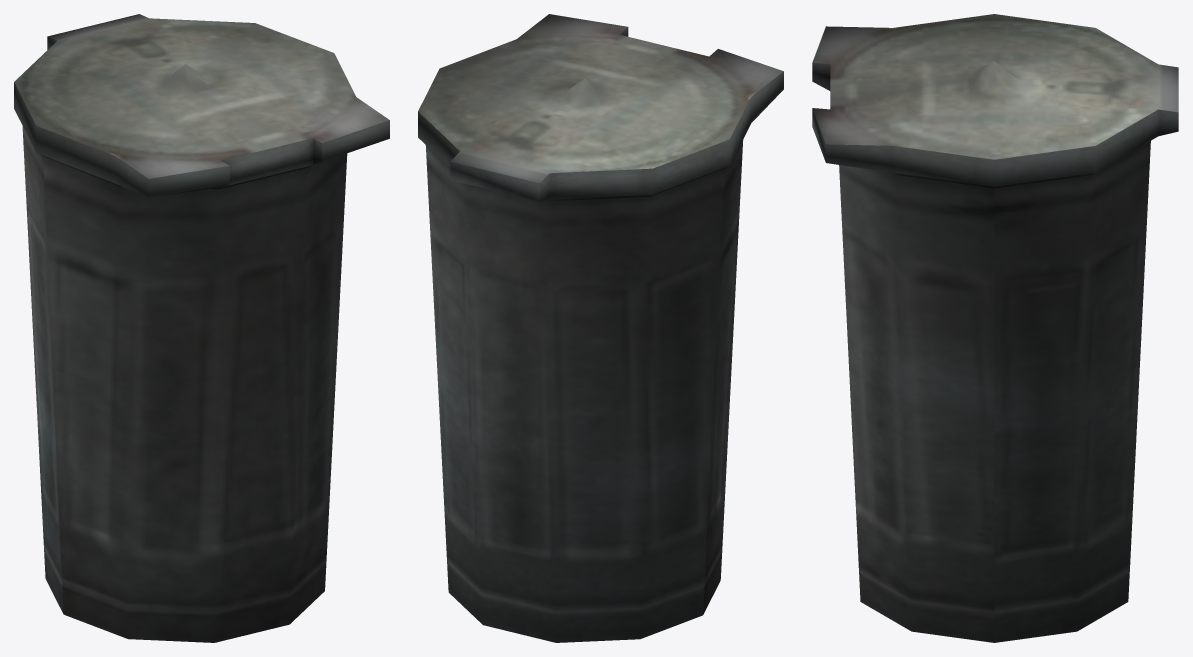
Rendered from PFB-Street-Decor-Pack-02-Litter-Bin-Metal-Medium.fbx.
3 views of the same model, side by side, from view 1: azimuth 30°, elevation 25°; view 2: azimuth 150°, elevation 25°; view 3: azimuth 270°, elevation 25° (orthographic). The views are drawn at different scales.
Visible parts, largest first — view 1: Litter-Bin-Metal-Medium; view 2: Litter-Bin-Metal-Medium; view 3: Litter-Bin-Metal-Medium.
Part boxes in pixels (x1,y1,x2,y2): Litter-Bin-Metal-Medium: (14, 14, 389, 642); Litter-Bin-Metal-Medium: (418, 14, 783, 642); Litter-Bin-Metal-Medium: (812, 14, 1178, 642).
Size of the model in its own units: 7.93 by 13.26 by 8.42.
